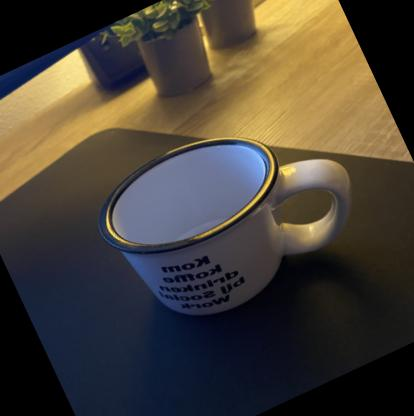Cup: (78, 82, 382, 350)
